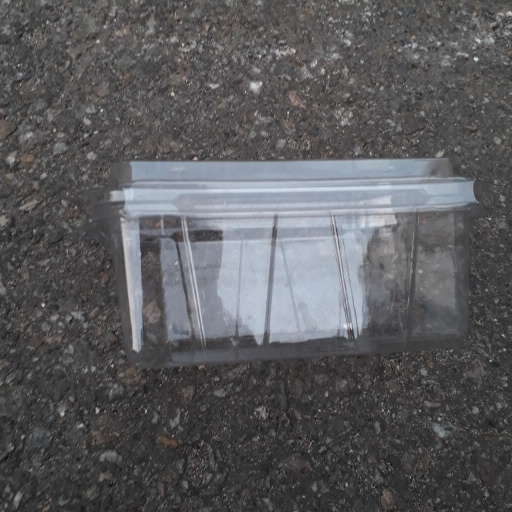Plastic_4: (86, 156, 477, 372)
